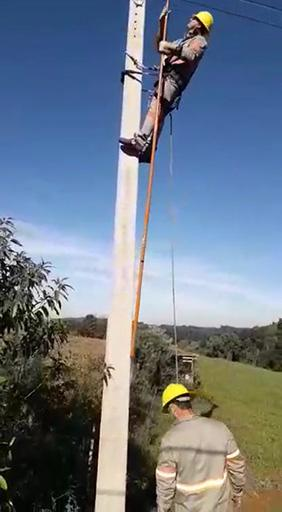Vara_Manobra: (128, 1, 170, 359)
